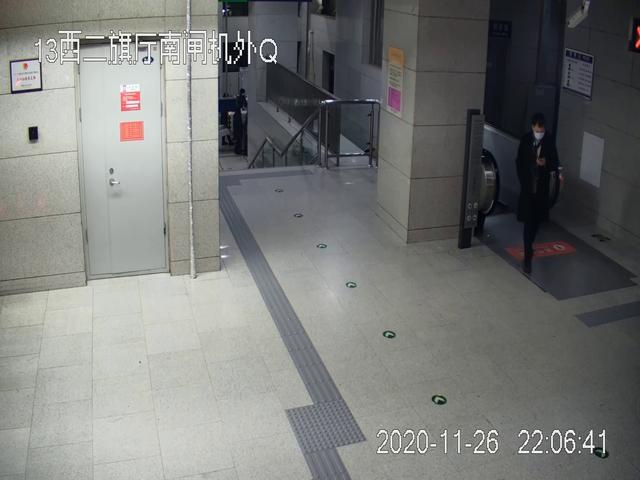person: (516, 113, 559, 275)
